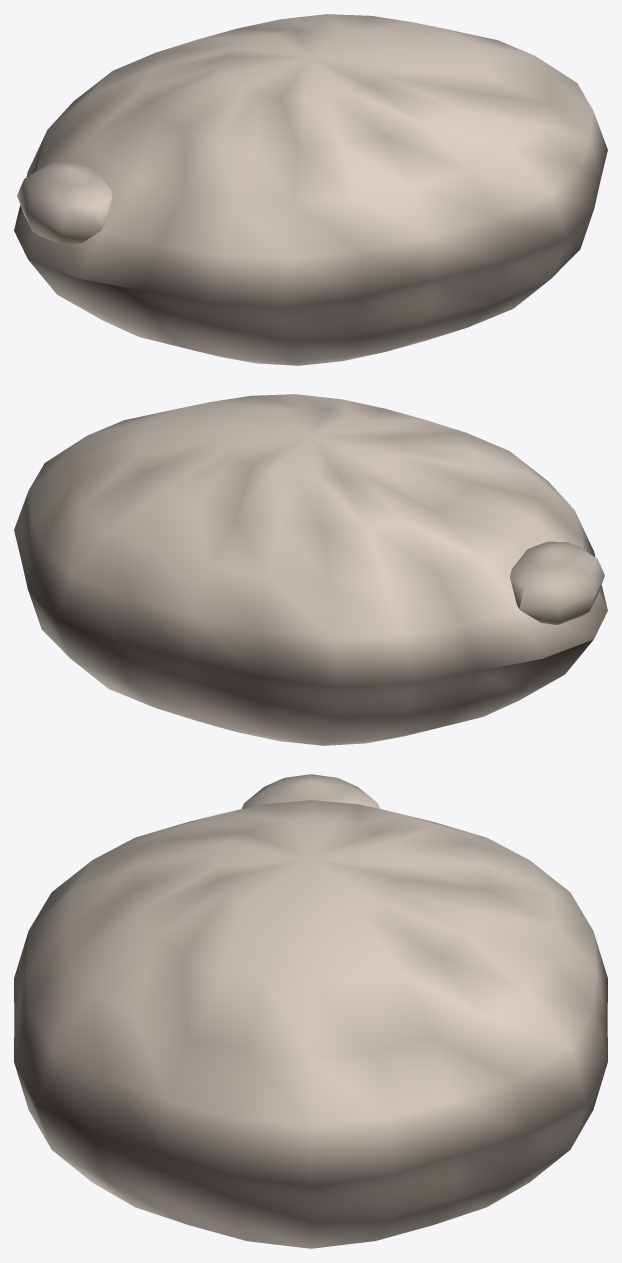
The model's file is tide_pool_clam.glb.
3 renders of one model, top to bottom at view 1: azimuth 30°, elevation 25°; view 2: azimuth 150°, elevation 25°; view 3: azimuth 270°, elevation 25°, orthographic. The views are drawn at different scales.
Visible parts, largest first — view 1: tide_pool_clam; view 2: tide_pool_clam; view 3: tide_pool_clam.
Part boxes in pixels (x1,y1,x2,y2): tide_pool_clam: [14, 14, 607, 365]; tide_pool_clam: [14, 394, 607, 745]; tide_pool_clam: [14, 774, 607, 1248].
Size of the model in its own units: 0.04 by 0.018 by 0.03.
